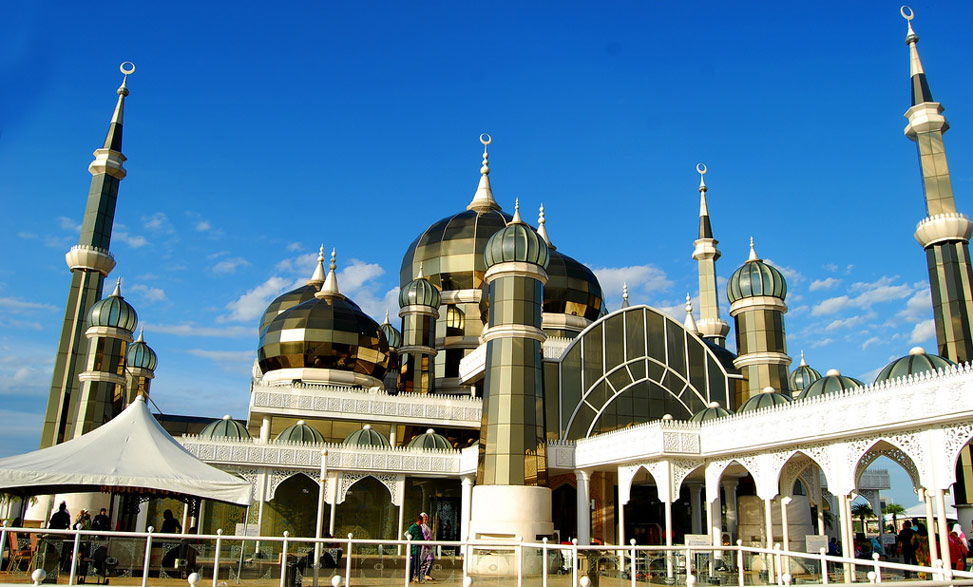Mosque: (21, 48, 973, 484)
